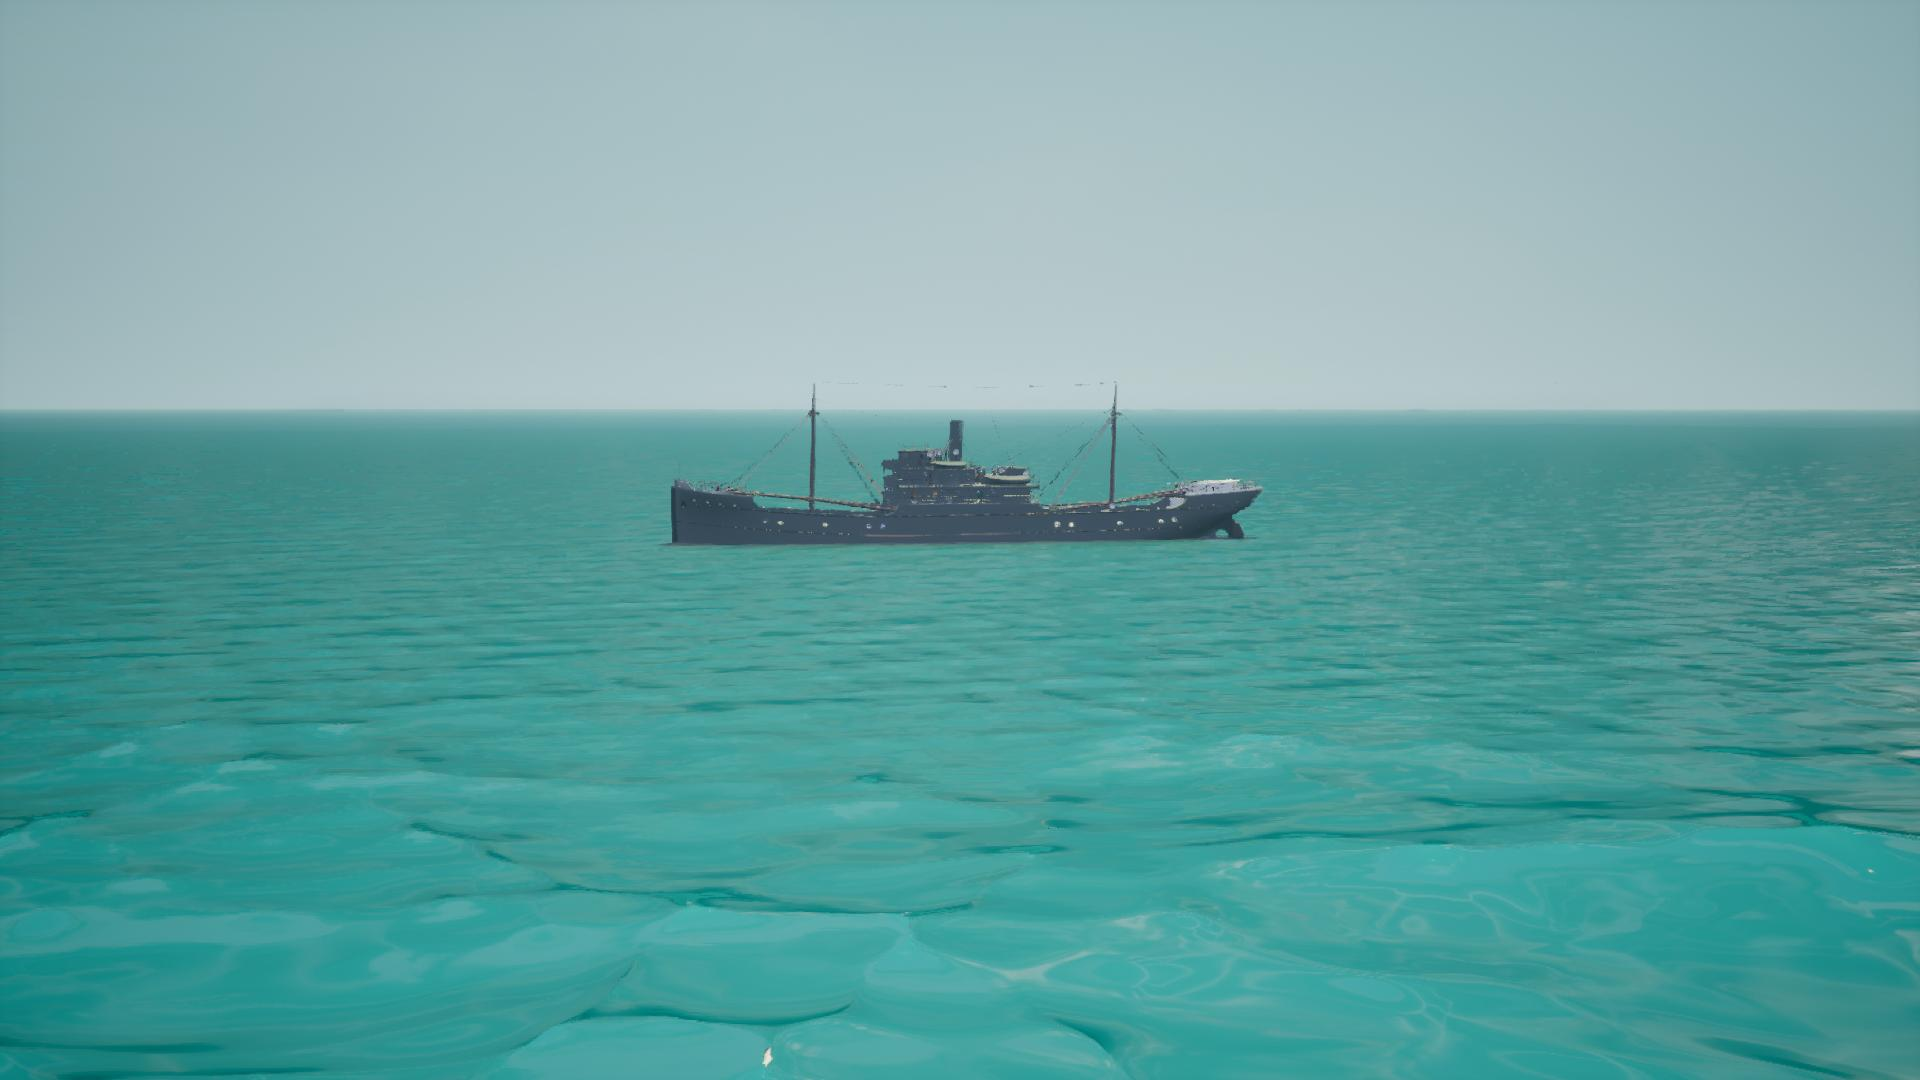Fishing Boat: (676, 386, 1262, 546)
